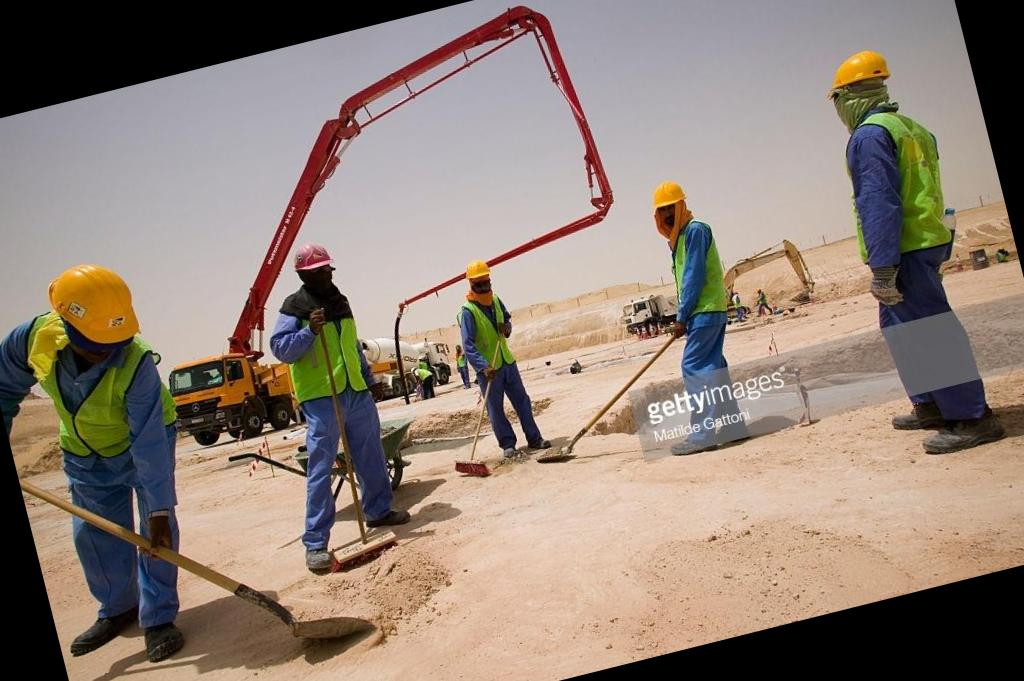Vest: (282, 298, 378, 411), (456, 296, 524, 386)
